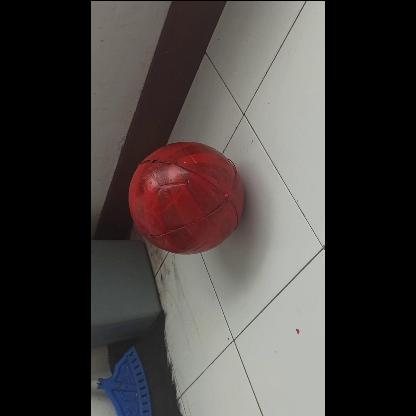red_ball: (130, 138, 246, 254)
